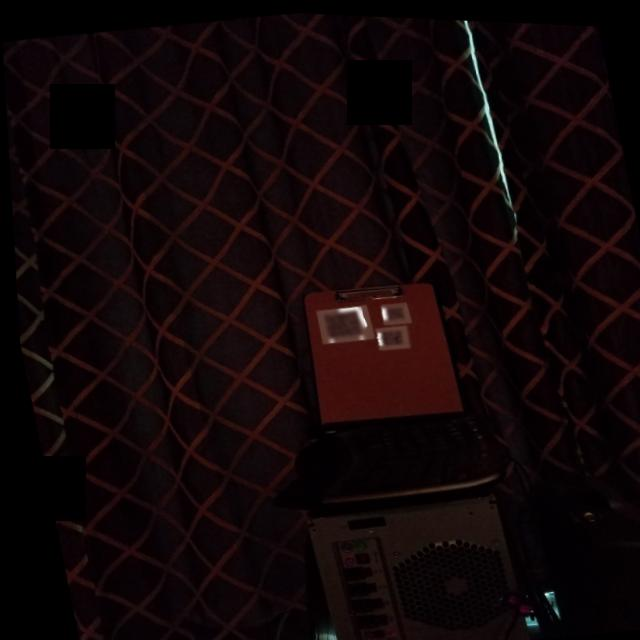QR_CODE: (313, 302, 364, 343), (373, 323, 410, 347), (377, 298, 407, 322)
